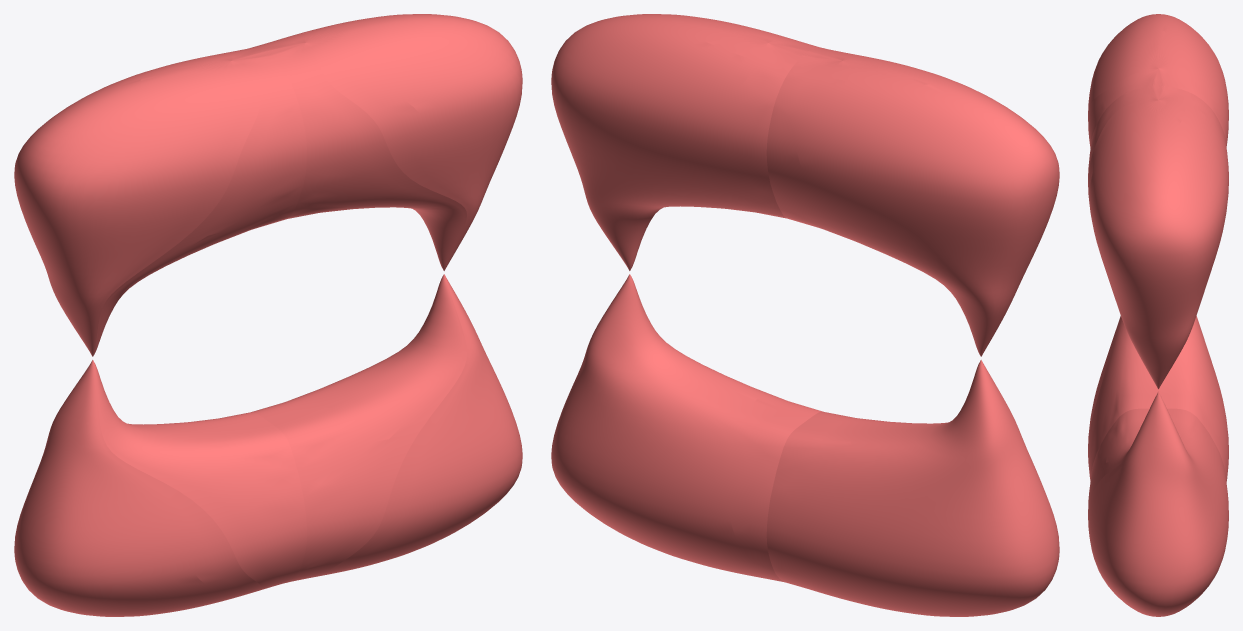
Rendered from s054 4.05.2_překryv_pi.glb.
3 renders of one model, left to right at view 1: azimuth 30°, elevation 25°; view 2: azimuth 150°, elevation 25°; view 3: azimuth 270°, elevation 25°, orthographic. The views are drawn at different scales.
Visible parts, largest first — view 1: hybrid.010_Sphere.003 2; view 2: hybrid.010_Sphere.003 2; view 3: hybrid.010_Sphere.003 2.
Boxes of the visible parts, <box> form: hybrid.010_Sphere.003 2: <box>14,14,522,616</box>; hybrid.010_Sphere.003 2: <box>551,14,1059,616</box>; hybrid.010_Sphere.003 2: <box>1088,14,1228,616</box>.
Bounding box in the file's own units: 6.1 × 6.32 × 1.73.
